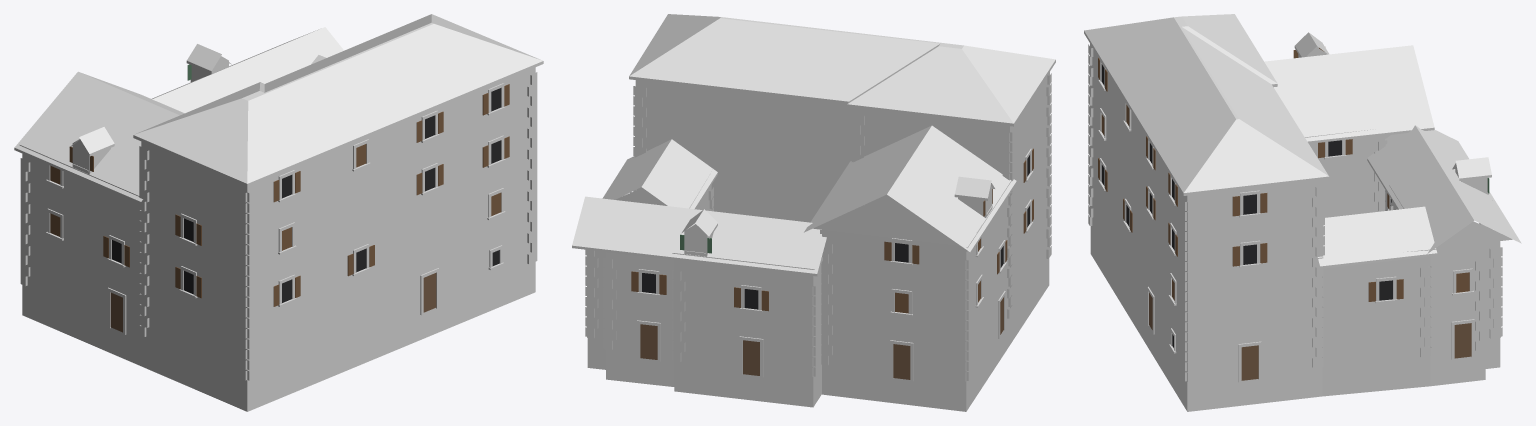
The model's file is stafileo.glb.
3 renders of one model, left to right at view 1: azimuth 30°, elevation 25°; view 2: azimuth 150°, elevation 25°; view 3: azimuth 270°, elevation 25°, orthographic. The views are drawn at different scales.
Visible parts, largest first — view 1: stafileo_LOD0; view 2: stafileo_LOD0; view 3: stafileo_LOD0.
Part boxes in pixels (x1,y1,x2,y2): stafileo_LOD0: (14, 14, 543, 411); stafileo_LOD0: (572, 14, 1055, 411); stafileo_LOD0: (1084, 14, 1521, 411).
Size of what is drawn, in the model's own units: 26.05 by 15.89 by 24.54.
